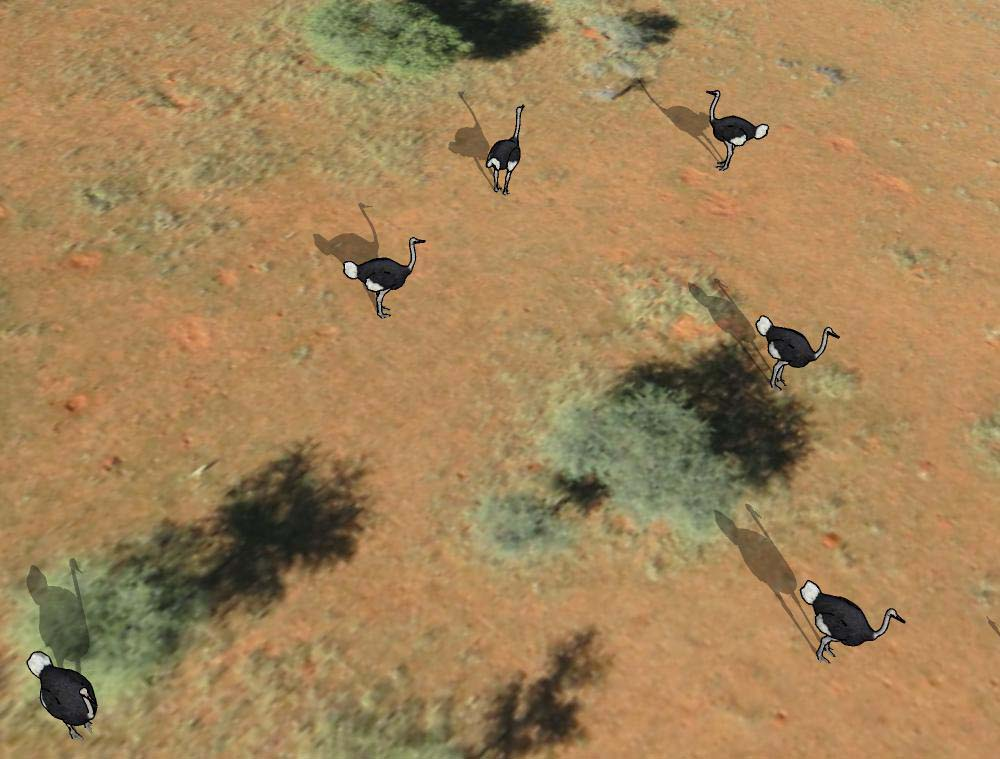ostrich: (801, 574, 908, 667), (24, 642, 101, 739), (338, 234, 427, 317), (757, 317, 842, 393), (695, 87, 770, 172), (483, 100, 539, 193)
